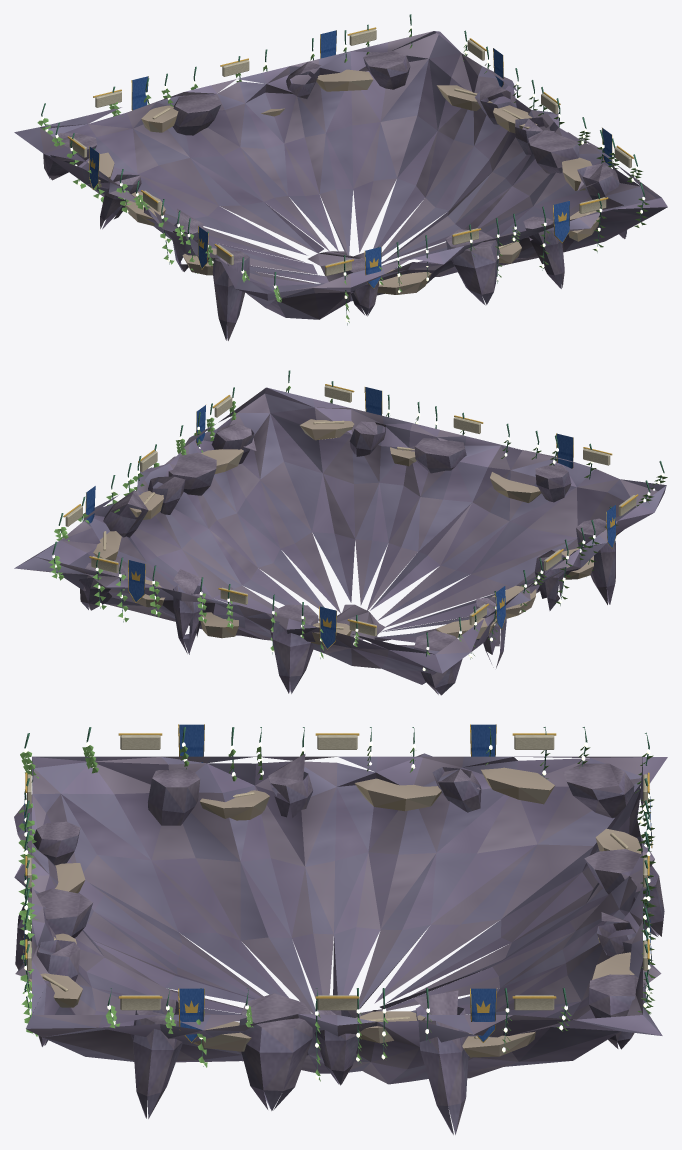
Rendered from crown-foundation-v2.glb.
3 views of the same model, one above another, from view 1: azimuth 30°, elevation 25°; view 2: azimuth 150°, elevation 25°; view 3: azimuth 270°, elevation 25° (orthographic). The views are drawn at different scales.
Visible parts, largest first — view 1: crown-foundation-v2; view 2: crown-foundation-v2; view 3: crown-foundation-v2.
Part boxes in pixels (x1=…): crown-foundation-v2: x1=14, y1=14, x2=667, y2=340; crown-foundation-v2: x1=14, y1=370, x2=667, y2=695; crown-foundation-v2: x1=14, y1=724, x2=667, y2=1134.
Size of the model in its own units: 27.65 by 8.42 by 26.9.
Materials: 7 (7 with a texture image).
